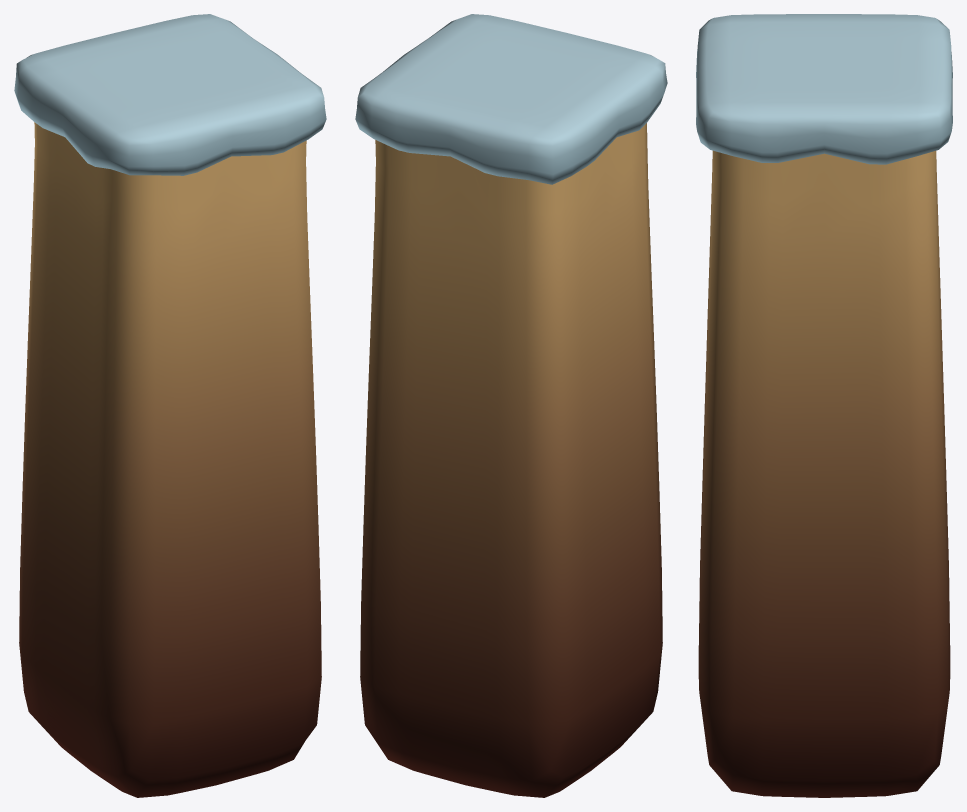
Rendered from TileSnow_6m.fbx.
The picture shows the model from 3 angles, left to right: view 1: azimuth 30°, elevation 25°; view 2: azimuth 150°, elevation 25°; view 3: azimuth 270°, elevation 25°; orthographic projection. The views are drawn at different scales.
Visible parts, largest first — view 1: TileSnow_6m; view 2: TileSnow_6m; view 3: TileSnow_6m.
Part boxes in pixels (x1,y1,x2,y2): TileSnow_6m: (14, 14, 326, 797); TileSnow_6m: (355, 14, 667, 797); TileSnow_6m: (696, 14, 952, 797).
Size of the model in its own units: 2 by 6 by 2.
